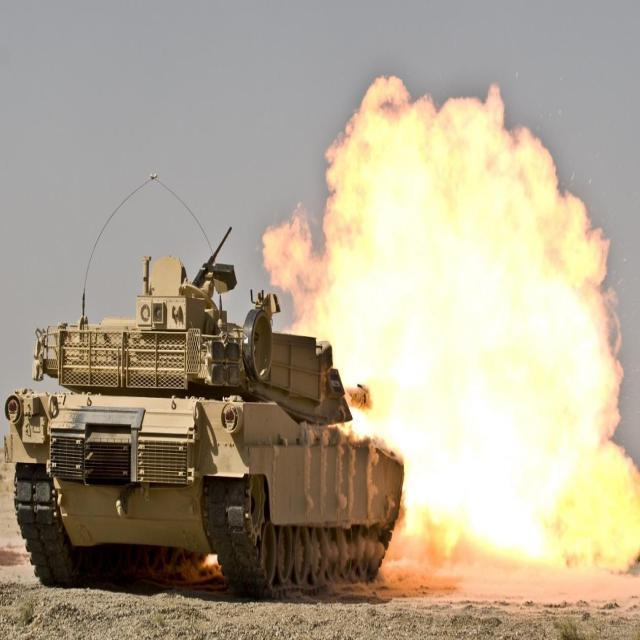MIL_MBT: (6, 297, 404, 595)
